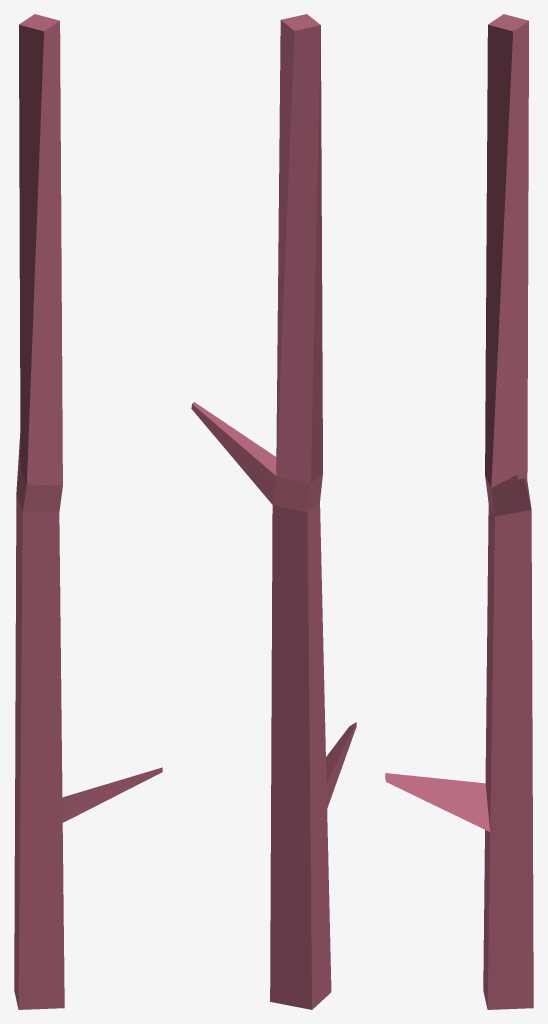
File: back_tree_3.fbx
3 renders of one model, left to right at view 1: azimuth 90°, elevation 25°; view 2: azimuth 150°, elevation 25°; view 3: azimuth 270°, elevation 25°, orthographic.
Visible parts, largest first — view 1: Cube.129; view 2: Cube.129; view 3: Cube.129.
Part boxes in pixels (x1,y1,x2,y2): Cube.129: [14, 14, 162, 1009]; Cube.129: [191, 14, 356, 1009]; Cube.129: [385, 14, 533, 1009].
Bounding box in the file's own units: 315 × 2357 × 325.
